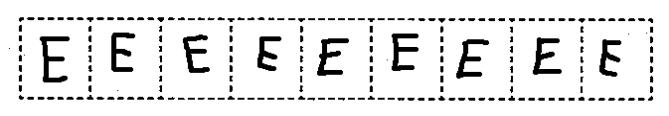E: (34, 31, 75, 86), (310, 34, 354, 82), (451, 32, 493, 82), (384, 29, 425, 77), (177, 29, 214, 80), (526, 32, 567, 78), (104, 29, 143, 76), (592, 34, 626, 84), (249, 32, 285, 76)
